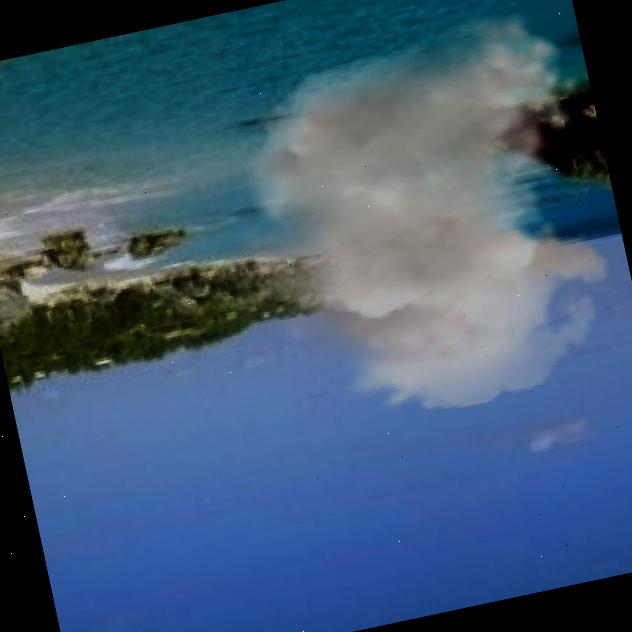smoke: (170, 0, 632, 455)
